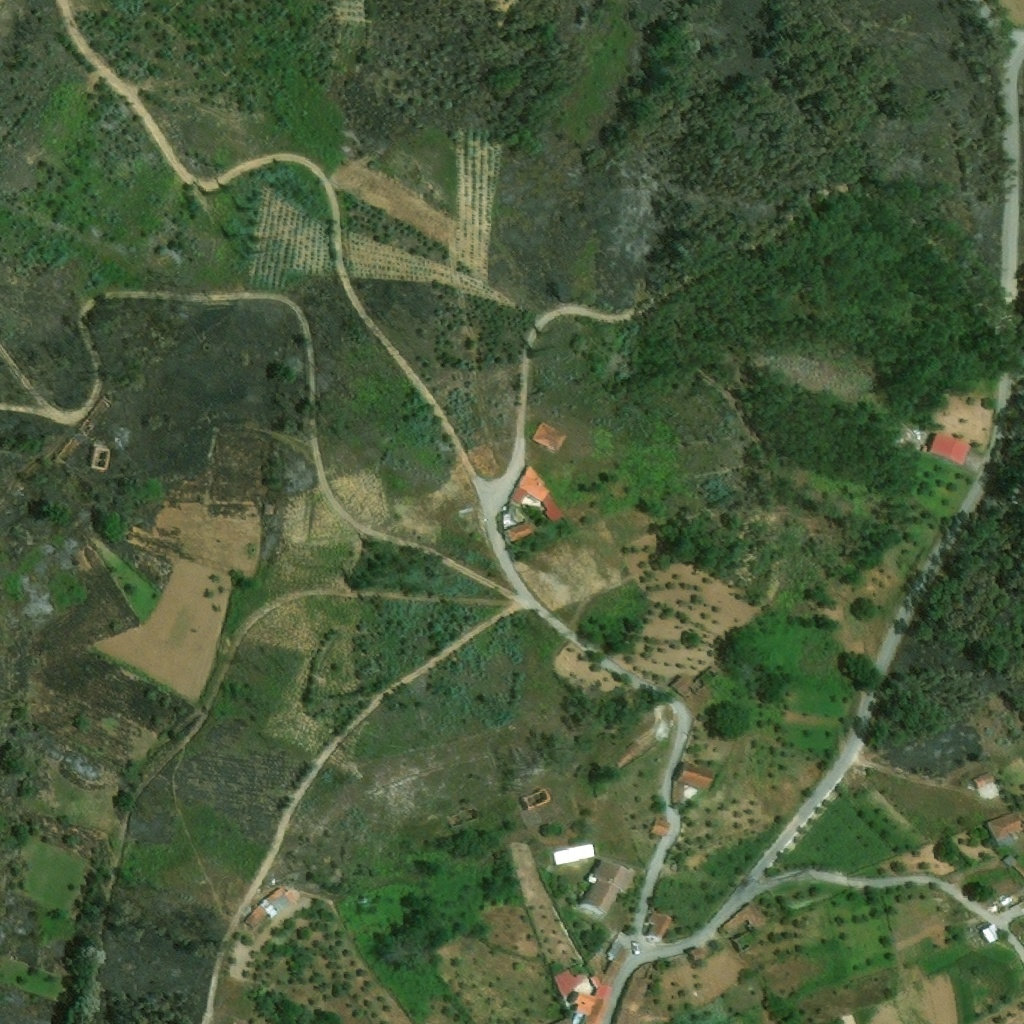0 no-damage: (919, 430, 971, 468), (570, 982, 616, 1023), (613, 974, 651, 1023), (584, 947, 630, 986), (581, 877, 625, 914), (985, 809, 1023, 851), (721, 901, 765, 936), (585, 857, 633, 889), (530, 419, 569, 455), (677, 760, 719, 790), (513, 473, 550, 501), (554, 971, 589, 1000), (553, 842, 596, 865), (500, 520, 539, 544), (614, 738, 645, 768), (541, 493, 568, 527), (646, 908, 673, 940), (607, 929, 631, 960), (259, 897, 282, 922), (671, 672, 694, 695), (244, 903, 267, 926), (649, 816, 670, 837), (506, 504, 529, 522), (978, 780, 1001, 798), (982, 922, 1000, 944), (973, 770, 998, 785), (272, 893, 292, 911), (521, 463, 540, 481), (507, 484, 523, 504), (266, 886, 284, 903), (689, 945, 706, 962), (520, 495, 540, 509), (672, 780, 684, 803), (682, 782, 698, 799), (284, 887, 300, 902), (643, 961, 656, 979), (1003, 853, 1018, 868), (552, 1014, 571, 1023), (572, 1010, 584, 1023), (503, 514, 514, 527), (560, 970, 571, 980), (357, 896, 370, 904)
